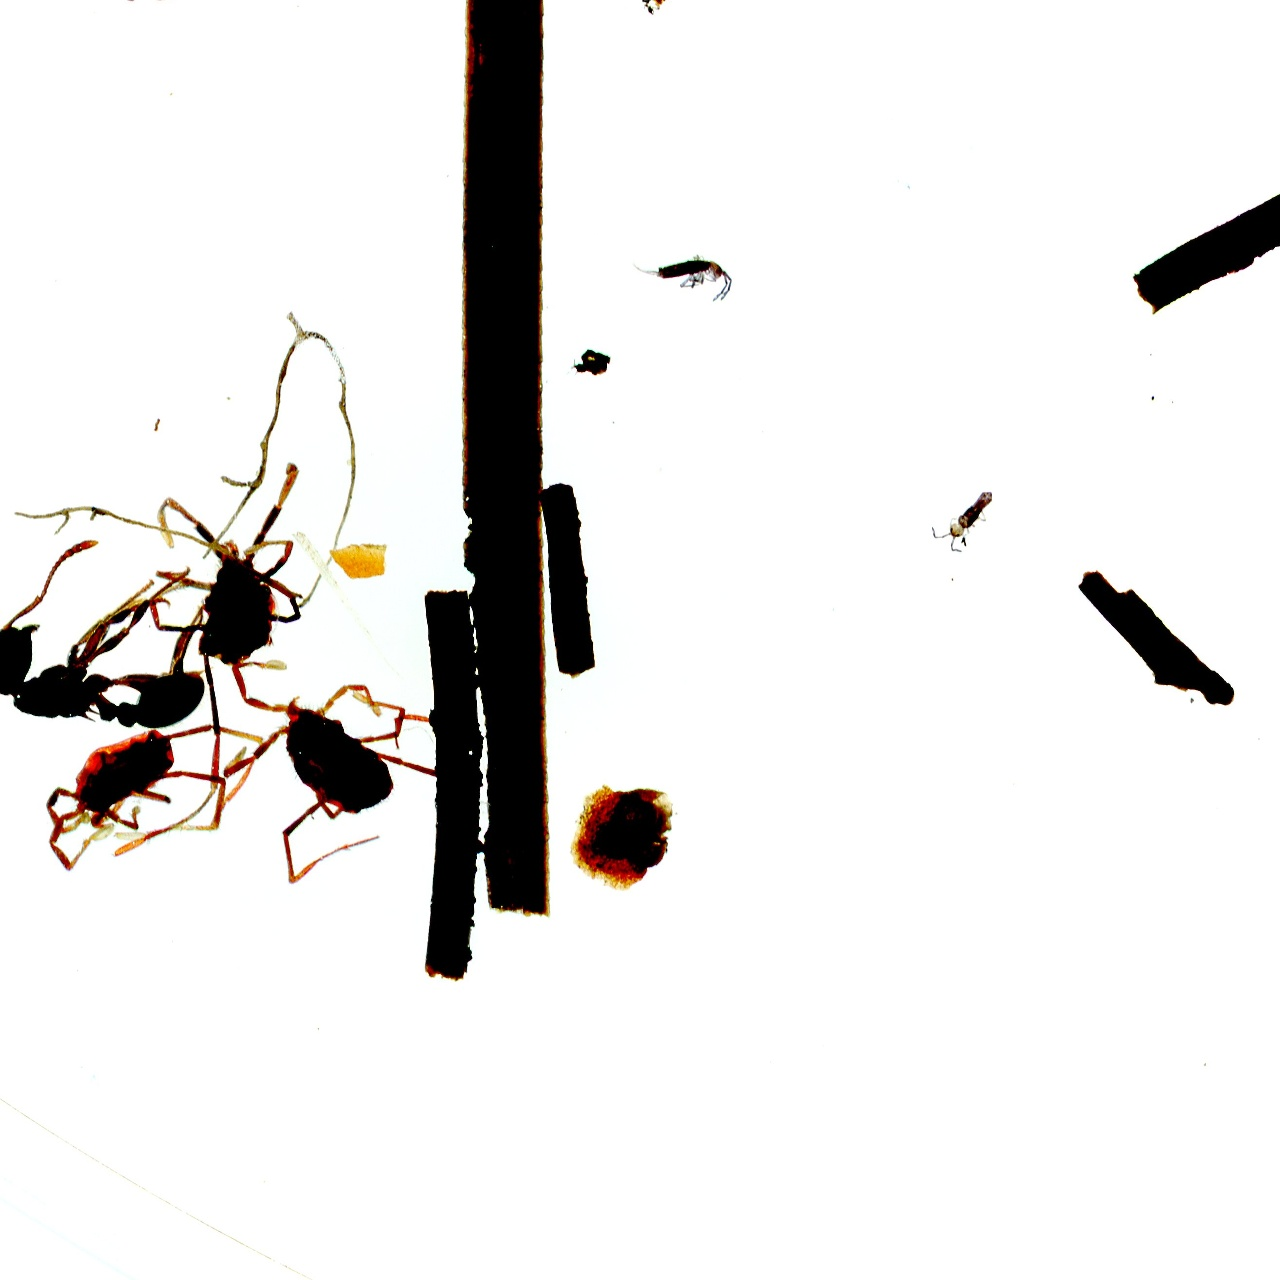arthropod: (108, 448, 313, 863), (19, 689, 293, 886), (218, 652, 436, 891), (0, 520, 224, 742), (915, 458, 1019, 570), (617, 239, 744, 314), (325, 0, 408, 14)
